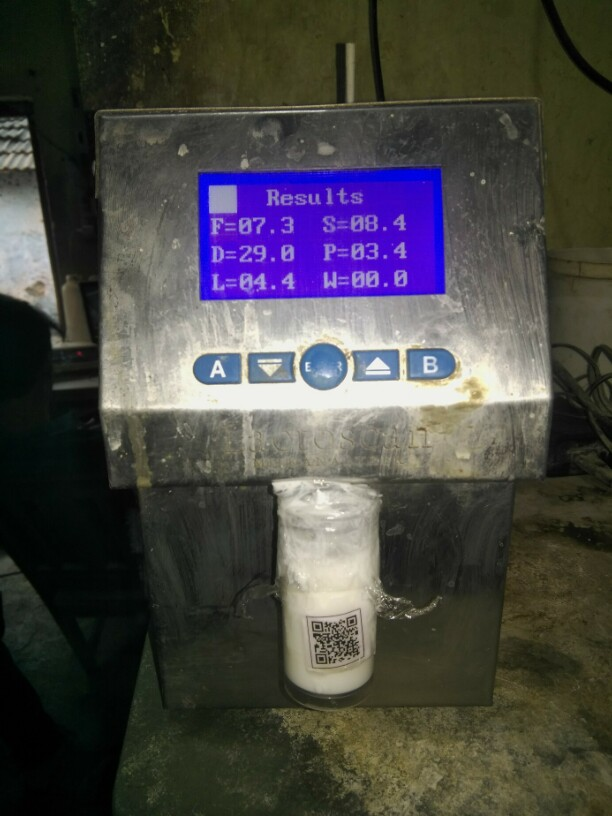lcd: (191, 168, 456, 309)
qr: (295, 609, 377, 673)
